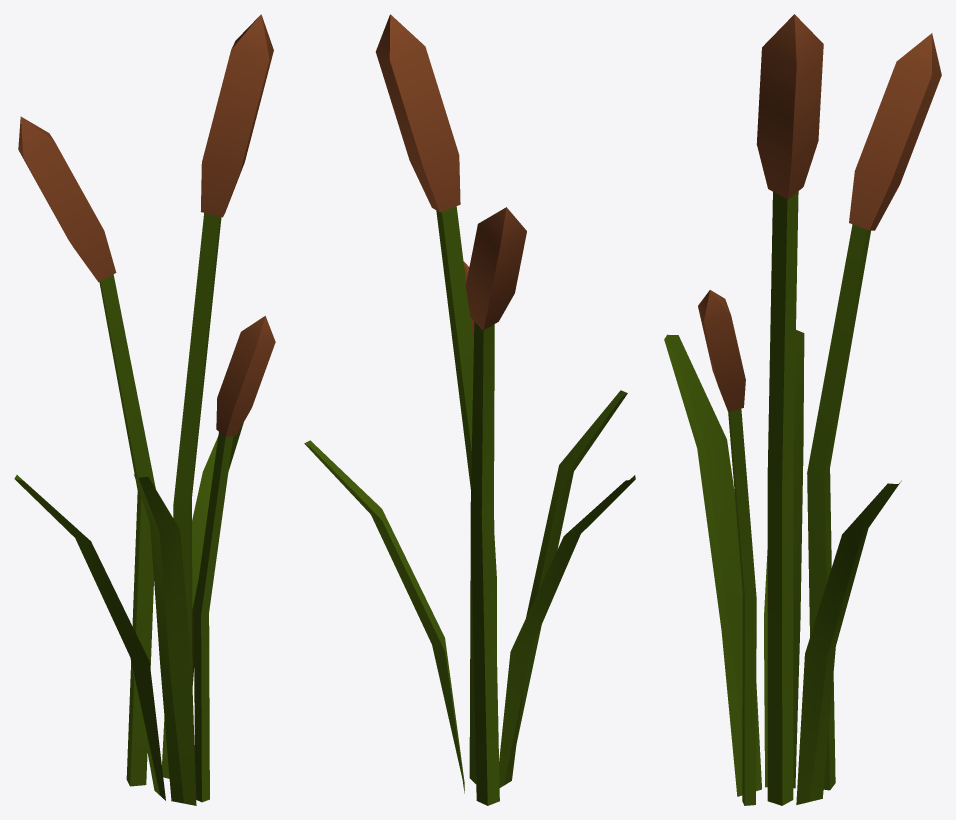
The model's file is water-plant-1.fbx.
3 views of the same model, side by side, from view 1: azimuth 30°, elevation 25°; view 2: azimuth 150°, elevation 25°; view 3: azimuth 270°, elevation 25° (orthographic). The views are drawn at different scales.
Visible parts, largest first — view 1: water-plant-1; view 2: water-plant-1; view 3: water-plant-1.
Boxes of the visible parts, bbox=[...] form: water-plant-1: bbox=[14, 14, 275, 805]; water-plant-1: bbox=[304, 14, 635, 805]; water-plant-1: bbox=[664, 14, 941, 805].
Size of the model in its own units: 89 by 223 by 67.62.
